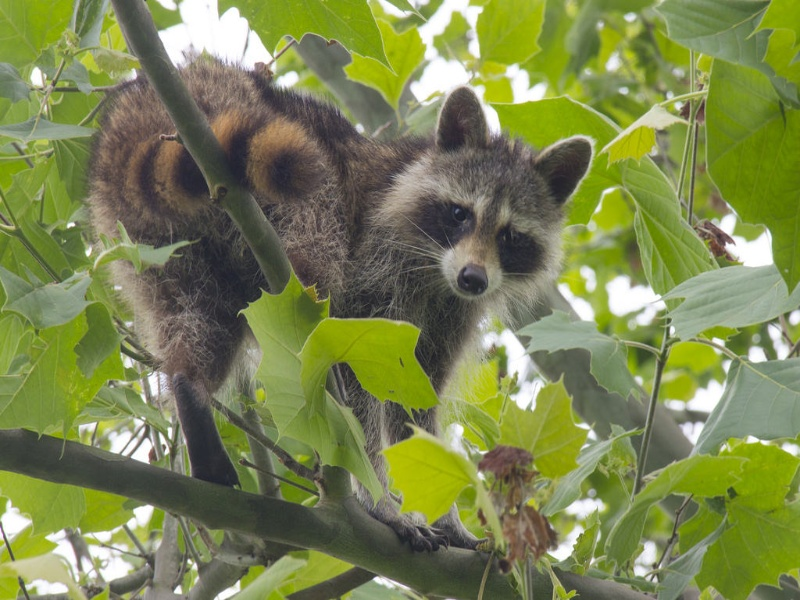raccoon: (81, 53, 598, 566)
